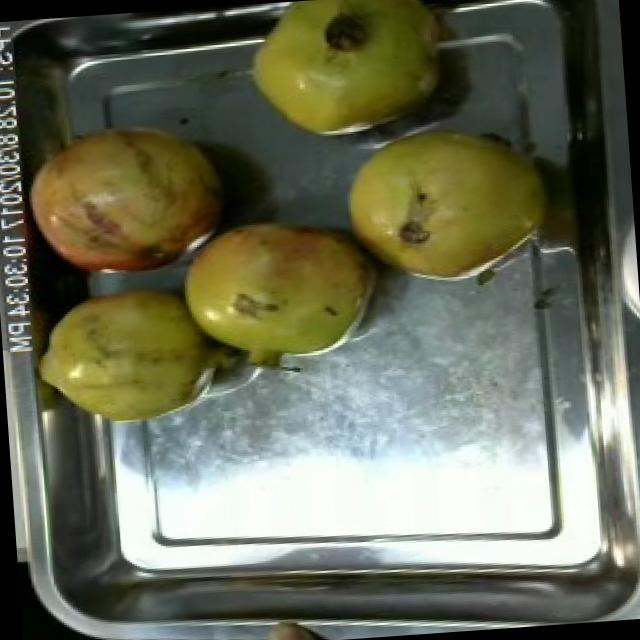fruit: (323, 108, 561, 298), (18, 104, 237, 290), (169, 204, 388, 382), (228, 0, 459, 155), (27, 278, 218, 436), (236, 613, 334, 640)
